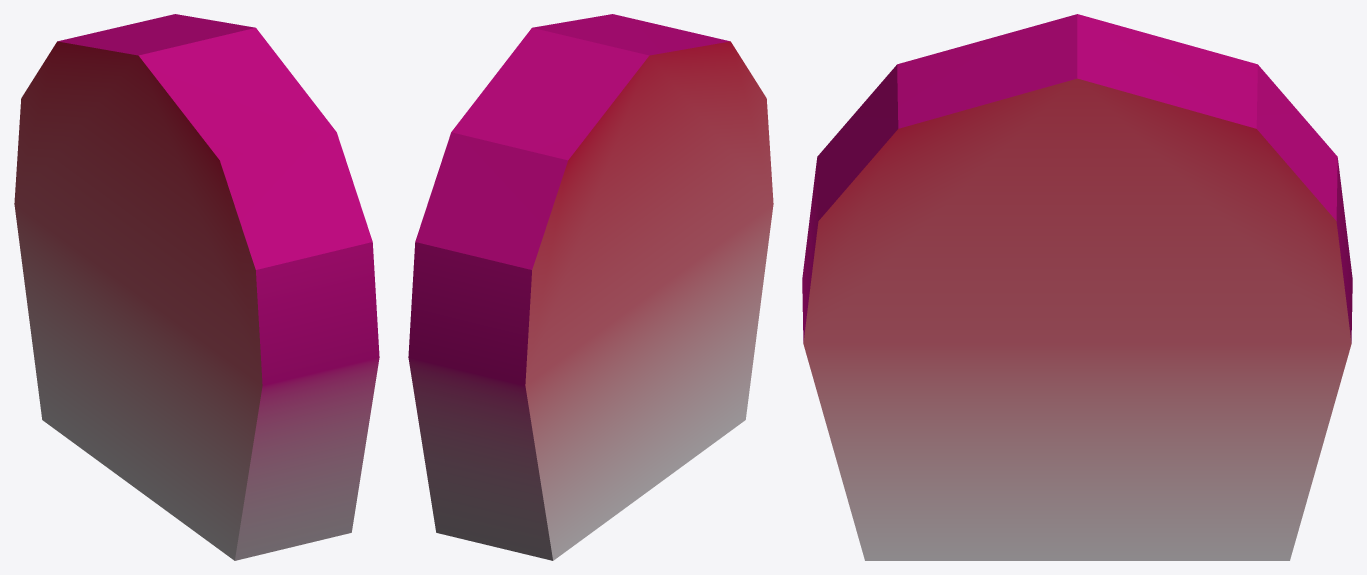
The model's file is magnet_col.glb.
The picture shows the model from 3 angles, left to right: view 1: azimuth 30°, elevation 25°; view 2: azimuth 150°, elevation 25°; view 3: azimuth 270°, elevation 25°; orthographic projection. The views are drawn at different scales.
Parts seen in each view (by area): view 1: magnet_colç; view 2: magnet_colç; view 3: magnet_colç.
Boxes of the visible parts, box(x1,y1,x2,y2) form: magnet_colç: box(14, 14, 379, 560); magnet_colç: box(408, 14, 773, 560); magnet_colç: box(802, 14, 1352, 560).
Bounding box in the file's own units: 0.6032 × 2.14 × 2.21.
